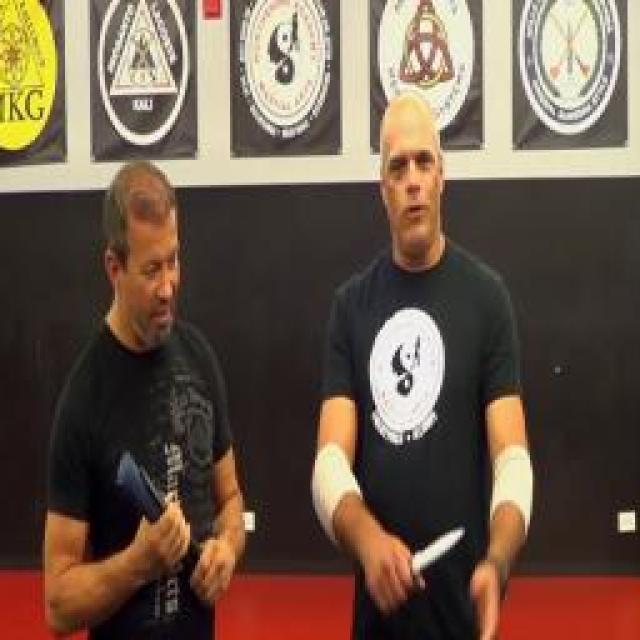knife: (372, 522, 468, 618)
